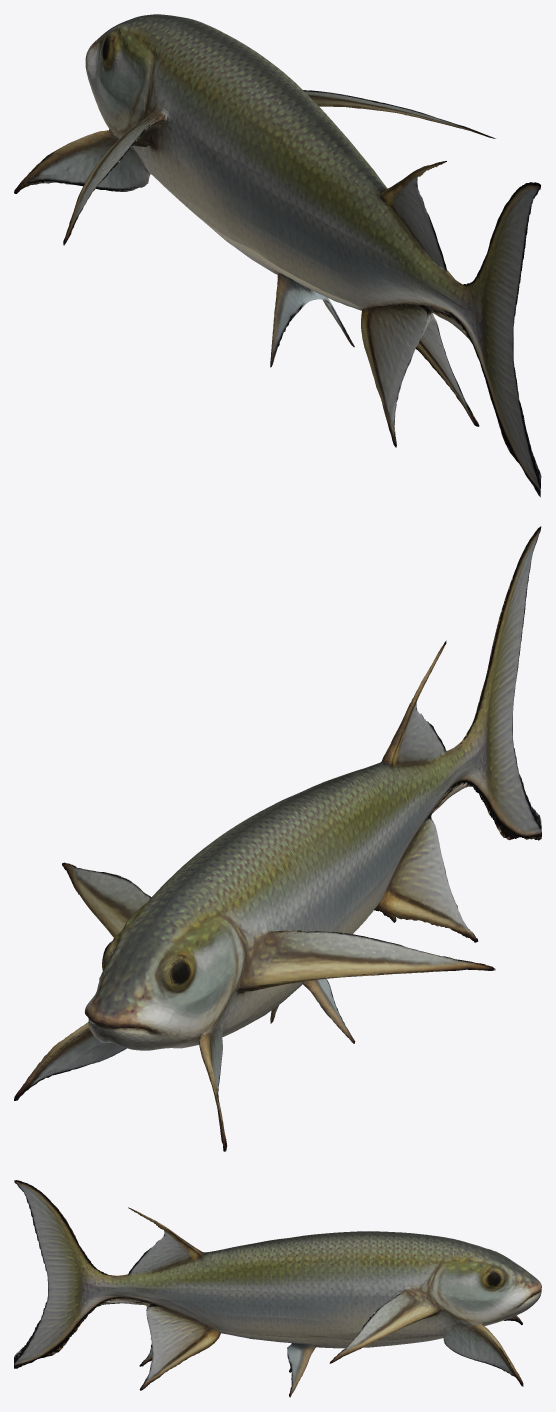
3 views of the same model, one above another, from view 1: azimuth 30°, elevation 25°; view 2: azimuth 150°, elevation 25°; view 3: azimuth 270°, elevation 25° (orthographic). The views are drawn at different scales.
Visible parts, largest first — view 1: world; view 2: world; view 3: world.
Boxes of the visible parts, <box> form: world: <box>14,14,541,497</box>; world: <box>14,526,541,1151</box>; world: <box>14,1180,541,1397</box>.
Bounding box in the file's own units: 0.5719 × 0.4295 × 1.
Materials: 1 (1 with a texture image).
